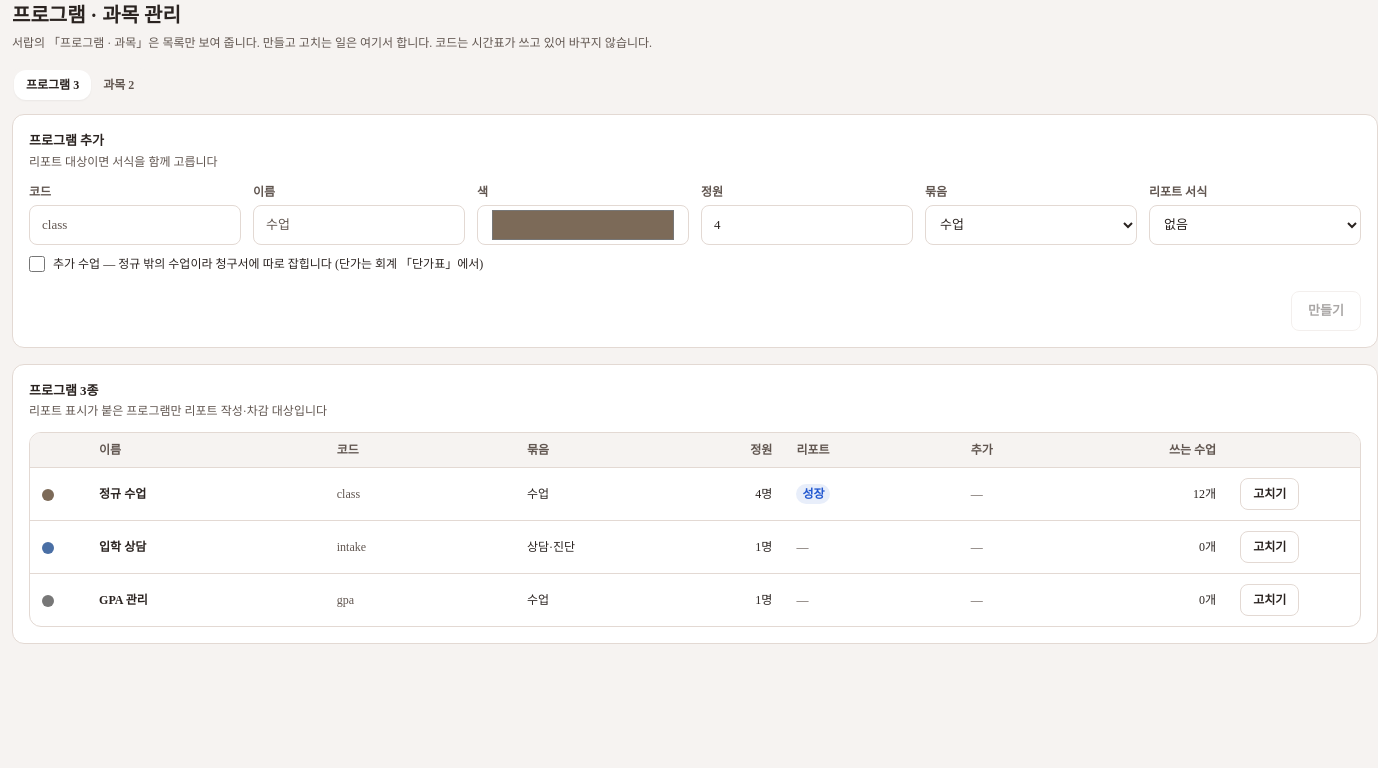
it: 코드와 이름이 비면 만들기를 누를 수 없다
Expected: the text "정규 수업" is shown, left=99, top=487, right=146, bottom=501
Expected: the button "만들기" is disabled, left=1291, top=290, right=1361, bottom=330
Type "camp" into the field labelled "코드" at x=135, y=224, box left=29, top=204, right=241, bottom=244
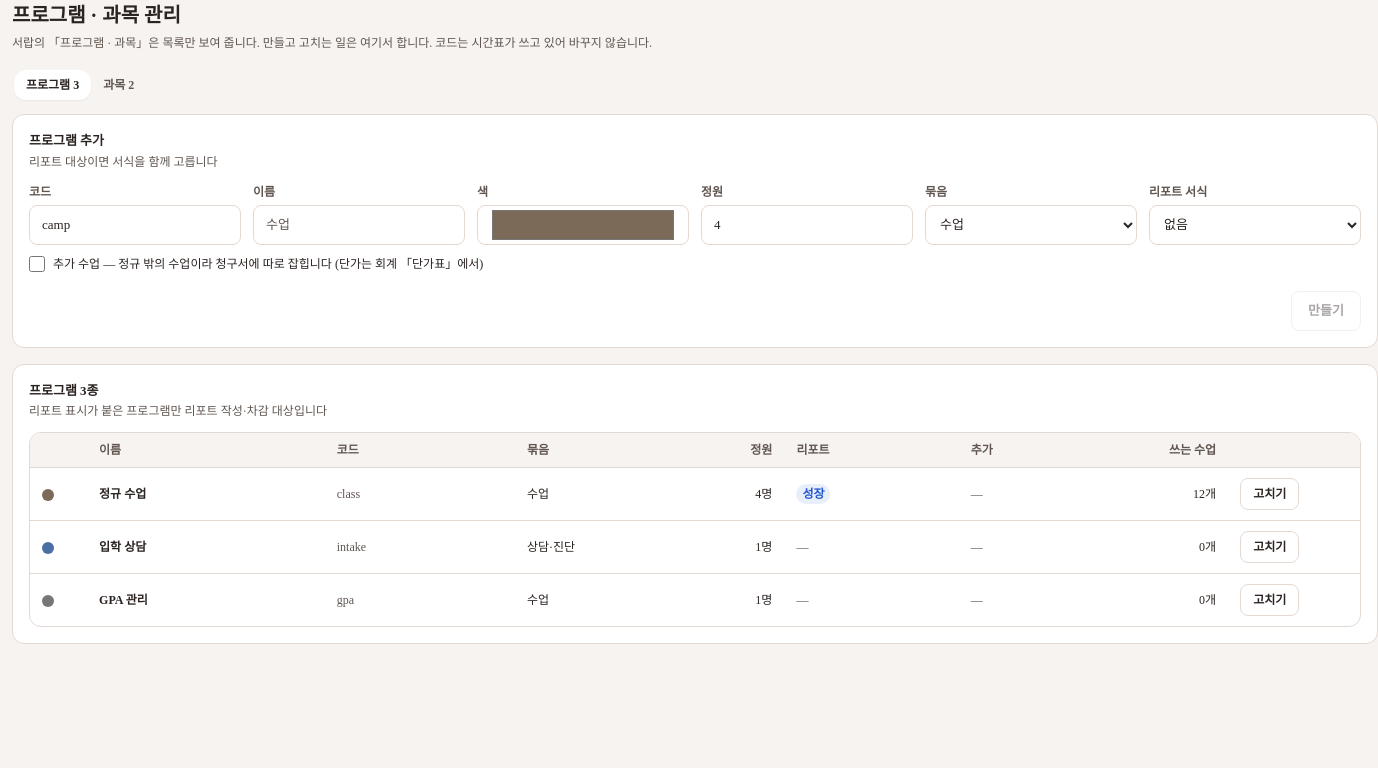
Expected: the button "만들기" is disabled, left=1291, top=290, right=1361, bottom=330
Type "캠프" into the field labelled "이름" at x=359, y=224, box left=253, top=204, right=465, bottom=244
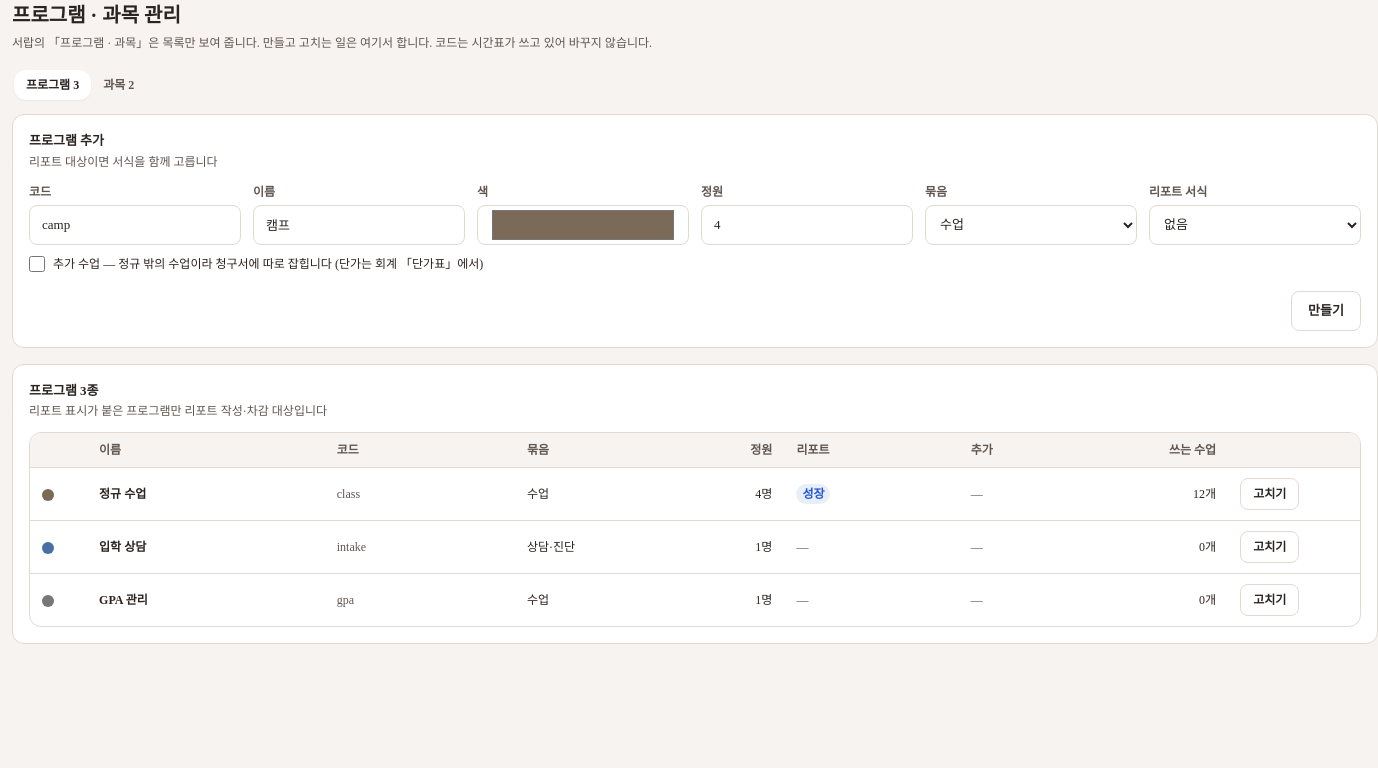
Expected: the button "만들기" is enabled, left=1291, top=290, right=1361, bottom=330
